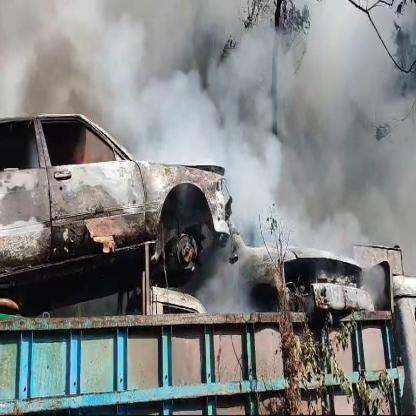Smoke: (0, 0, 416, 314)
